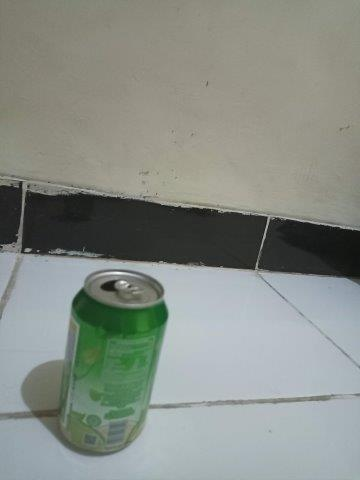kaleng: (59, 269, 169, 454)
